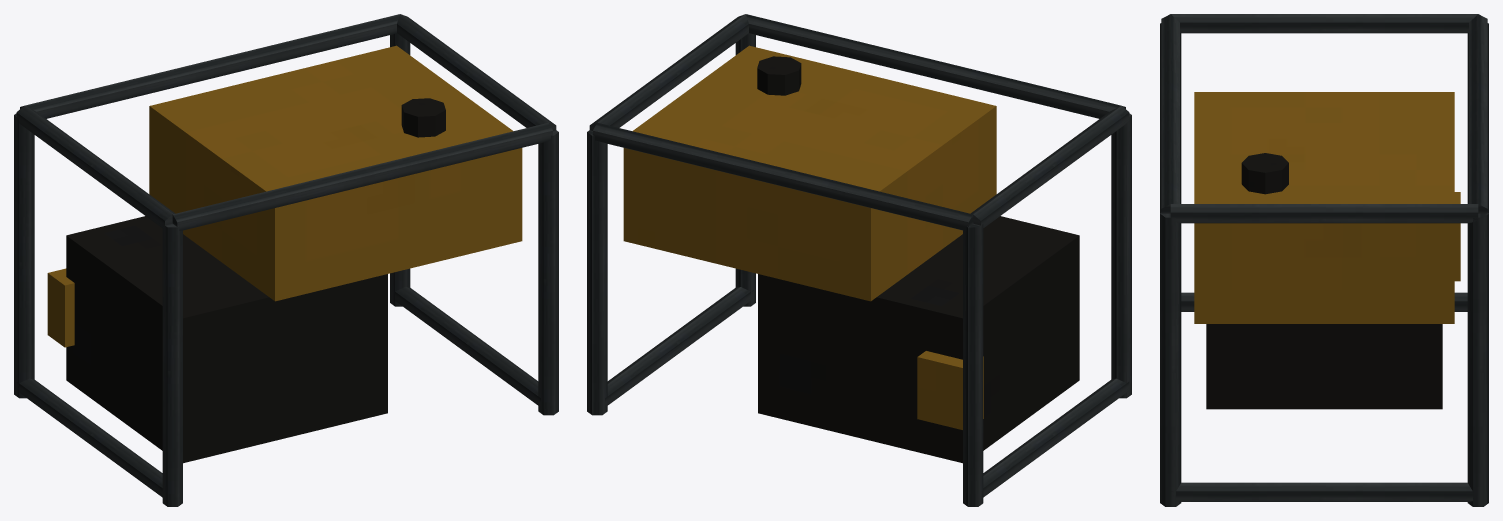
Rendered from generator_01.glb.
3 renders of one model, left to right at view 1: azimuth 30°, elevation 25°; view 2: azimuth 150°, elevation 25°; view 3: azimuth 270°, elevation 25°, orthographic. The views are drawn at different scales.
Parts seen in each view (by area): view 1: generator_01; view 2: generator_01; view 3: generator_01.
Boxes of the visible parts, x1=… form: generator_01: x1=14, y1=14, x2=558, y2=506; generator_01: x1=587, y1=14, x2=1131, y2=506; generator_01: x1=1160, y1=14, x2=1488, y2=506.
Bounding box in the file's own units: 0.7912 × 0.56 × 0.556.
3 materials, 3 textured.
